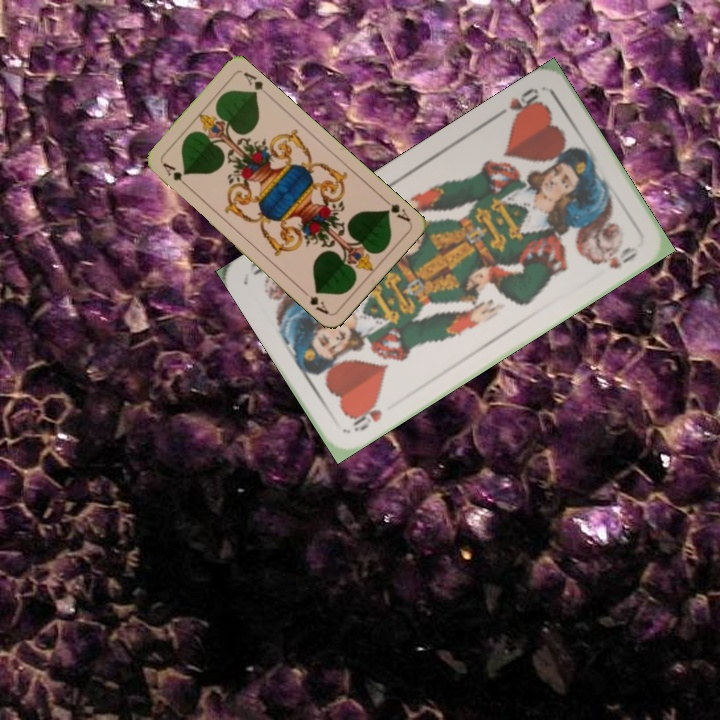GA: (379, 193, 413, 224), (159, 159, 190, 190)
HO: (490, 83, 545, 123), (346, 396, 385, 435)
